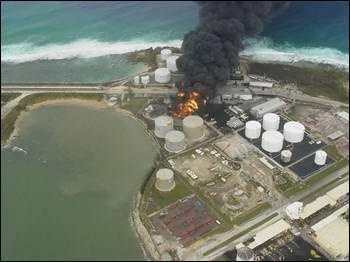fire: (174, 88, 200, 115)
